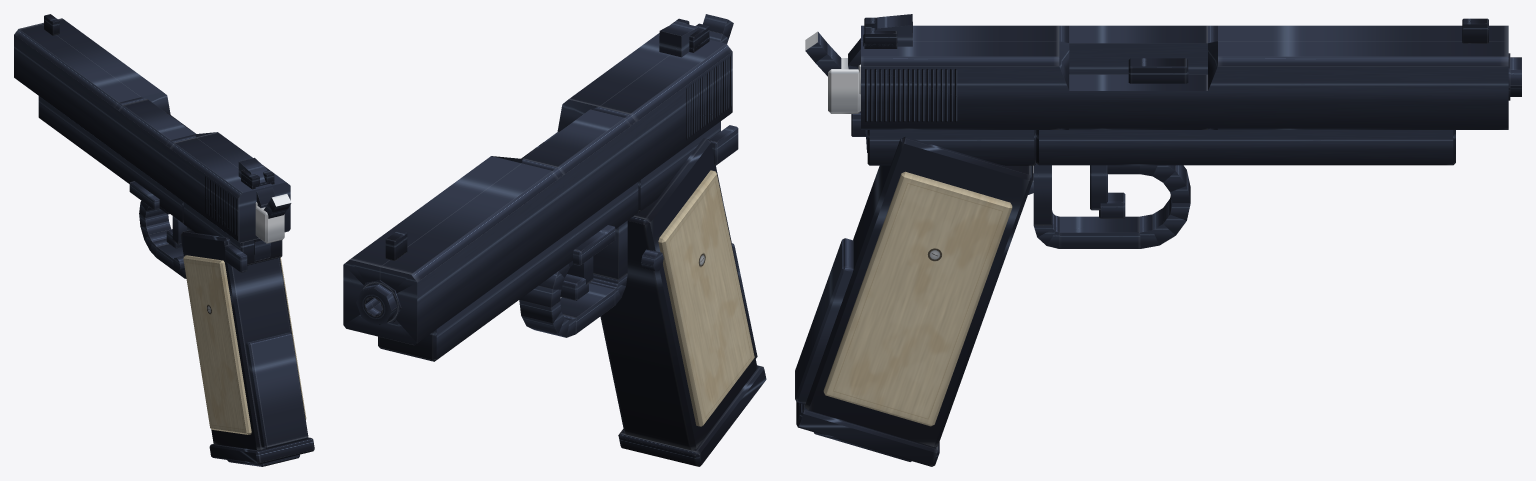
File: pistol_1911_camo_common.glb
The picture shows the model from 3 angles, left to right: view 1: azimuth 30°, elevation 25°; view 2: azimuth 150°, elevation 25°; view 3: azimuth 270°, elevation 25°; orthographic projection. The views are drawn at different scales.
Parts seen in each view (by area): view 1: frame, slide; view 2: frame, slide; view 3: frame, slide.
Boxes of the visible parts, x1,y1,x2,y2 form: frame: (38, 96, 314, 464); slide: (14, 14, 290, 243); frame: (356, 14, 766, 466); slide: (343, 18, 732, 345); frame: (795, 14, 1521, 466); slide: (861, 17, 1508, 129).
Size of the model in its own units: 0.0306 by 0.1435 by 0.22.
Materials: 2 (2 with a texture image).
